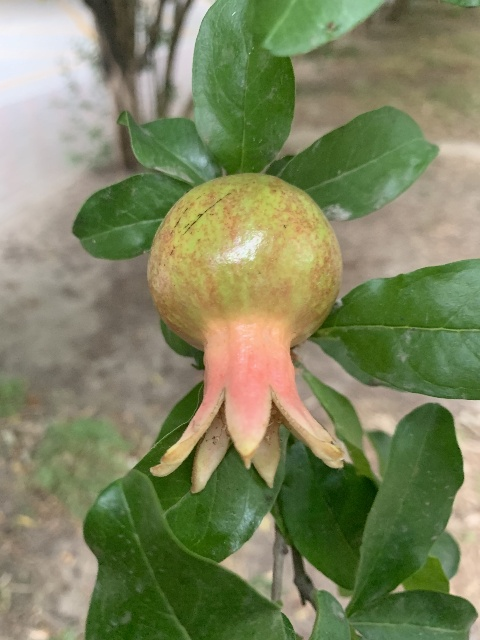early-fruit: (146, 170, 345, 494)
